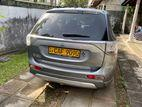car: (25, 7, 119, 92)
